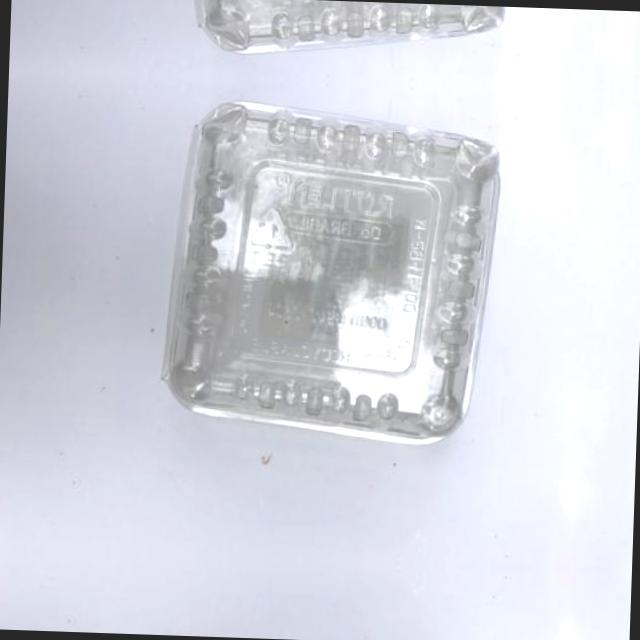Plastic: (104, 86, 506, 453), (117, 0, 510, 71)
